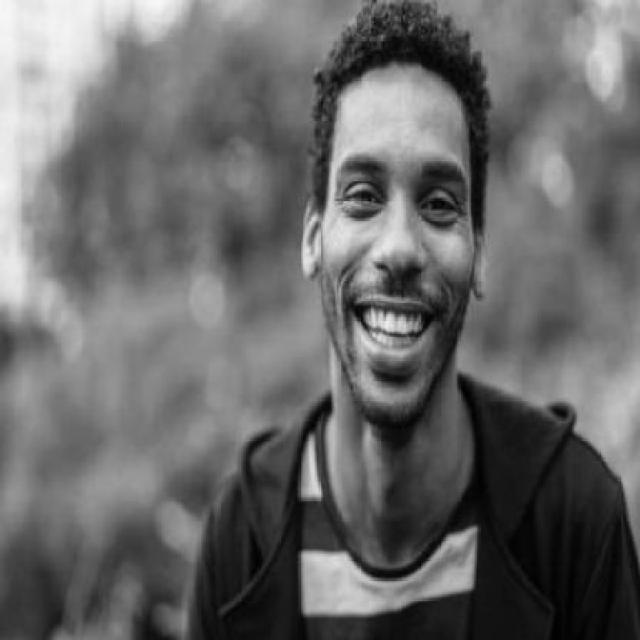happy: (336, 148, 469, 372)
